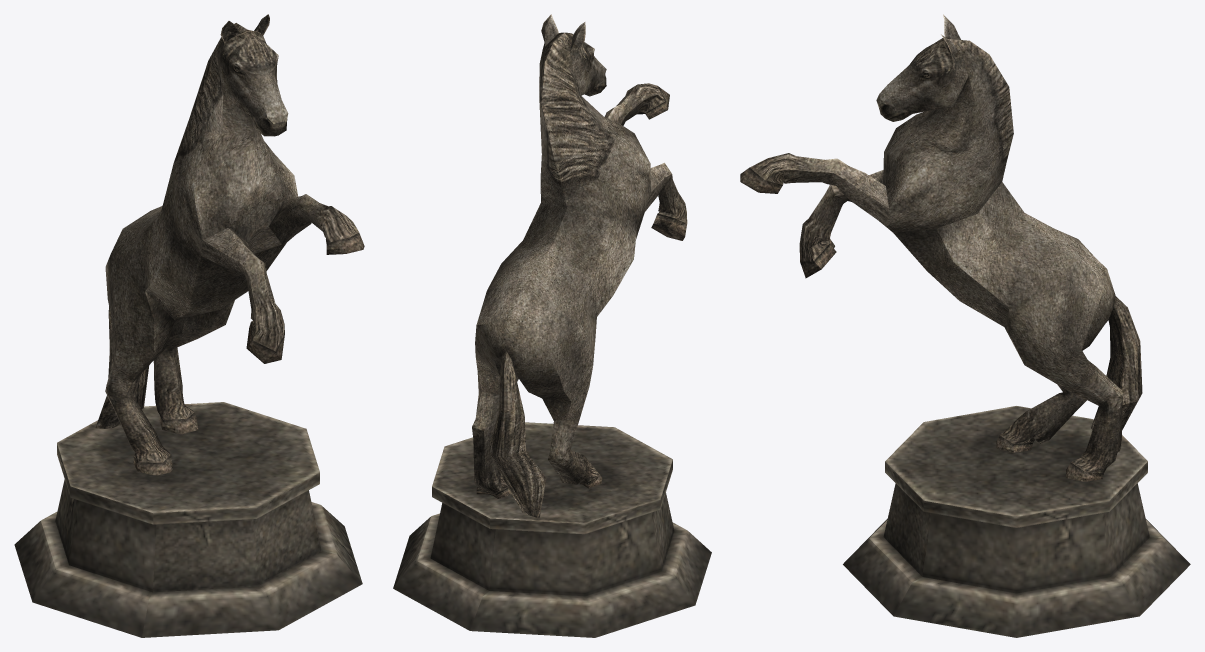
File: horseStatue.dae
The picture shows the model from 3 angles, left to right: view 1: azimuth 30°, elevation 25°; view 2: azimuth 150°, elevation 25°; view 3: azimuth 270°, elevation 25°; orthographic projection. The views are drawn at different scales.
Visible parts, largest first — view 1: Horse_Statue1; view 2: Horse_Statue1; view 3: Horse_Statue1.
Part boxes in pixels (x1=…): Horse_Statue1: x1=14, y1=14, x2=364, y2=637; Horse_Statue1: x1=393, y1=14, x2=711, y2=637; Horse_Statue1: x1=740, y1=14, x2=1190, y2=637.
Bounding box in the file's own units: 2.06 × 3.6 × 2.66.
1 material, 1 textured.
